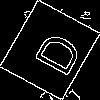D: (24, 24, 84, 79)
